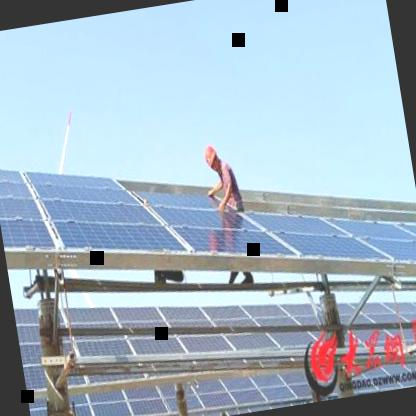helmet: (200, 140, 223, 176)
